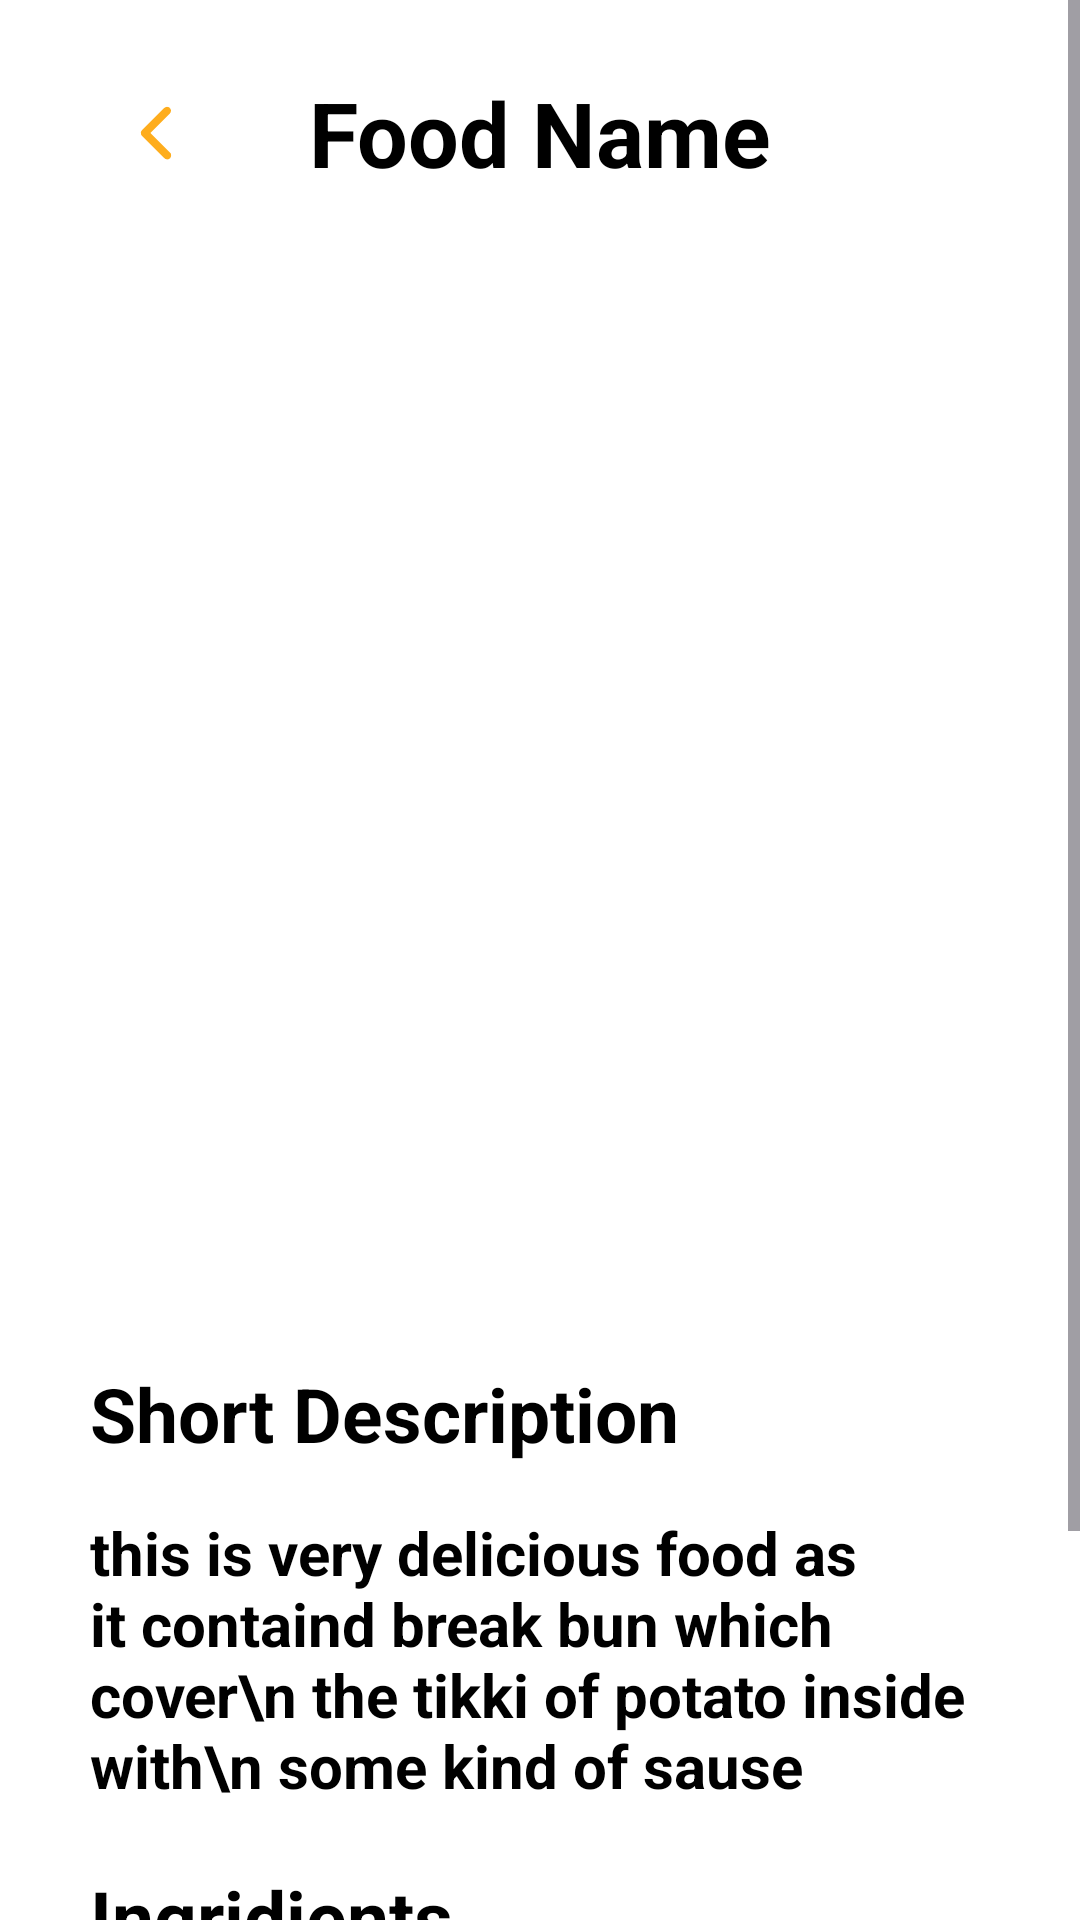

Named icons in this screenshot (1080px x 1920px) and their centers, (x,y):
left: (155,133)
